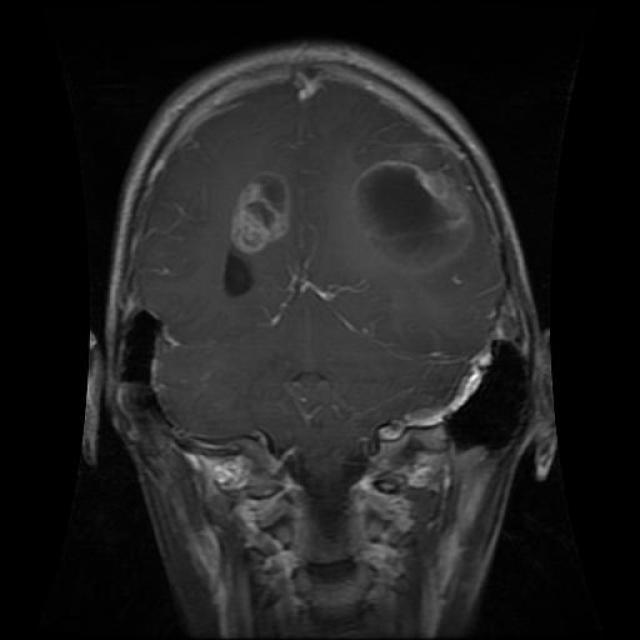glioma: (352, 160, 470, 271)
